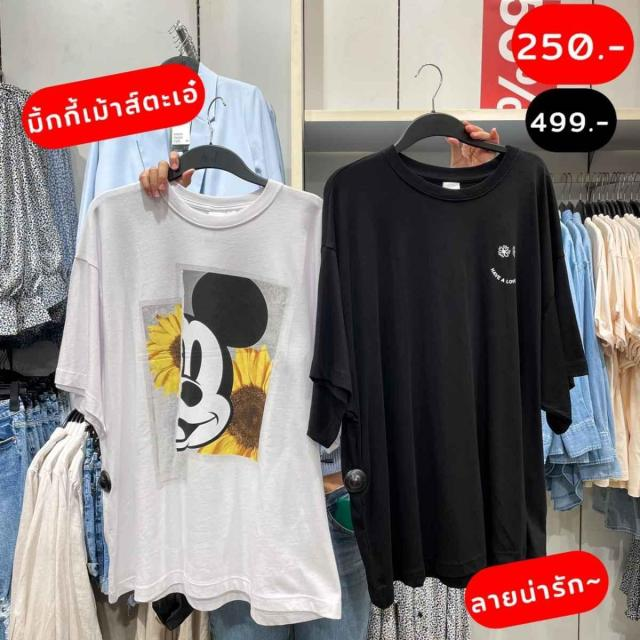Tshirt: (62, 166, 367, 630), (311, 137, 594, 605)
